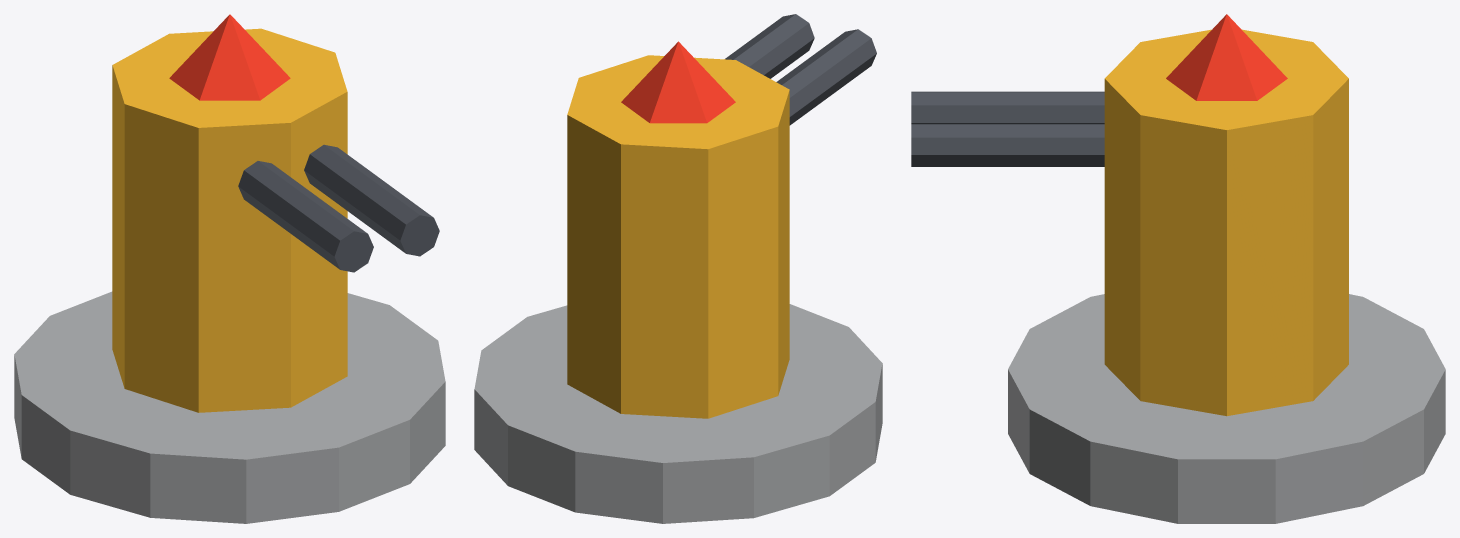
The model's file is TD_RapidTower_T0.fbx.
3 renders of one model, left to right at view 1: azimuth 30°, elevation 25°; view 2: azimuth 150°, elevation 25°; view 3: azimuth 270°, elevation 25°, orthographic. The views are drawn at different scales.
Visible parts, largest first — view 1: TD_RapidTower_T0_Body, TD_RapidTower_T0_Base, TD_RapidTower_T0_Barrel_Right, TD_RapidTower_T0_Barrel_Left, TD_RapidTower_T0_Accent; view 2: TD_RapidTower_T0_Body, TD_RapidTower_T0_Base, TD_RapidTower_T0_Accent, TD_RapidTower_T0_Barrel_Left, TD_RapidTower_T0_Barrel_Right; view 3: TD_RapidTower_T0_Body, TD_RapidTower_T0_Base, TD_RapidTower_T0_Barrel_Right, TD_RapidTower_T0_Barrel_Left, TD_RapidTower_T0_Accent.
Part boxes in pixels (x1,y1,x2,y2): TD_RapidTower_T0_Body: (112, 28, 347, 412); TD_RapidTower_T0_Base: (14, 291, 445, 523); TD_RapidTower_T0_Barrel_Right: (304, 144, 439, 256); TD_RapidTower_T0_Barrel_Left: (238, 161, 373, 272); TD_RapidTower_T0_Accent: (169, 14, 290, 100); TD_RapidTower_T0_Body: (567, 55, 789, 418); TD_RapidTower_T0_Base: (474, 304, 882, 523); TD_RapidTower_T0_Accent: (621, 41, 735, 123); TD_RapidTower_T0_Barrel_Left: (776, 29, 876, 125); TD_RapidTower_T0_Barrel_Right: (725, 14, 814, 78); TD_RapidTower_T0_Body: (1104, 29, 1348, 416); TD_RapidTower_T0_Base: (1008, 294, 1445, 523); TD_RapidTower_T0_Barrel_Right: (911, 124, 1104, 166); TD_RapidTower_T0_Barrel_Left: (911, 91, 1104, 123); TD_RapidTower_T0_Accent: (1166, 14, 1287, 100).
Bounding box in the file's own units: 0.8384 × 0.91 × 1.05.
